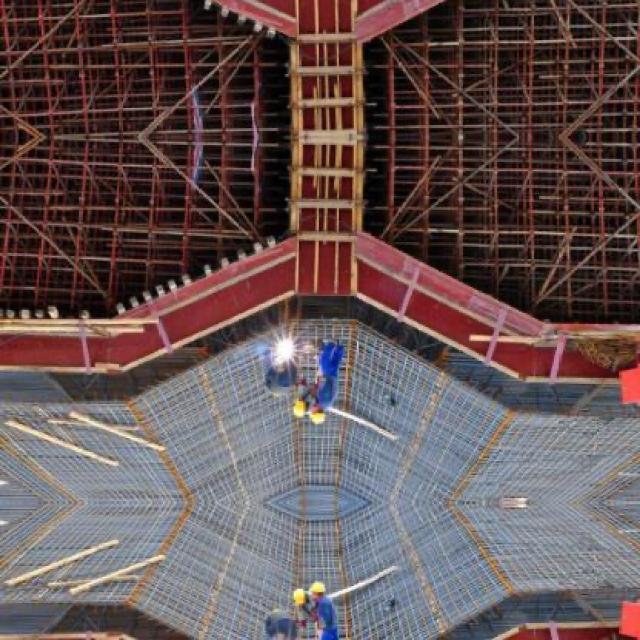con casco: (281, 388, 328, 437)
